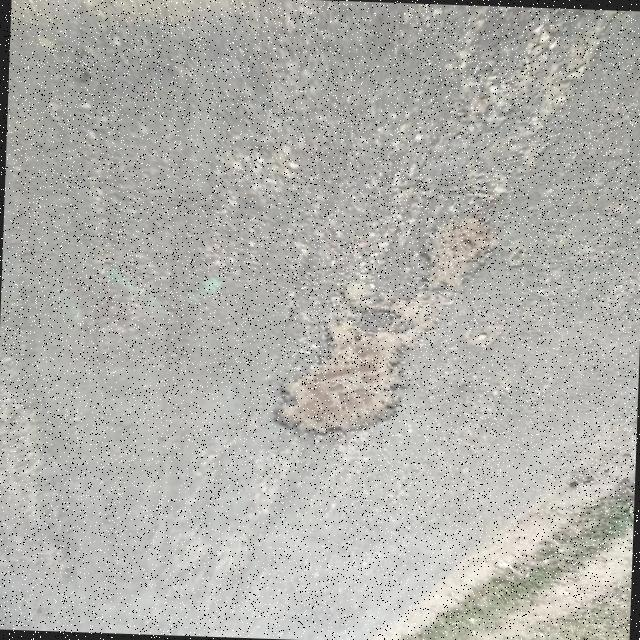Pothole: (271, 211, 490, 436)
